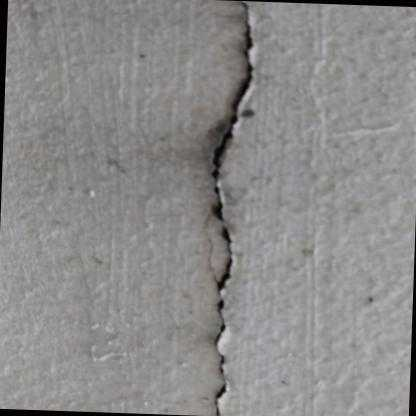crack: (212, 1, 253, 416)
